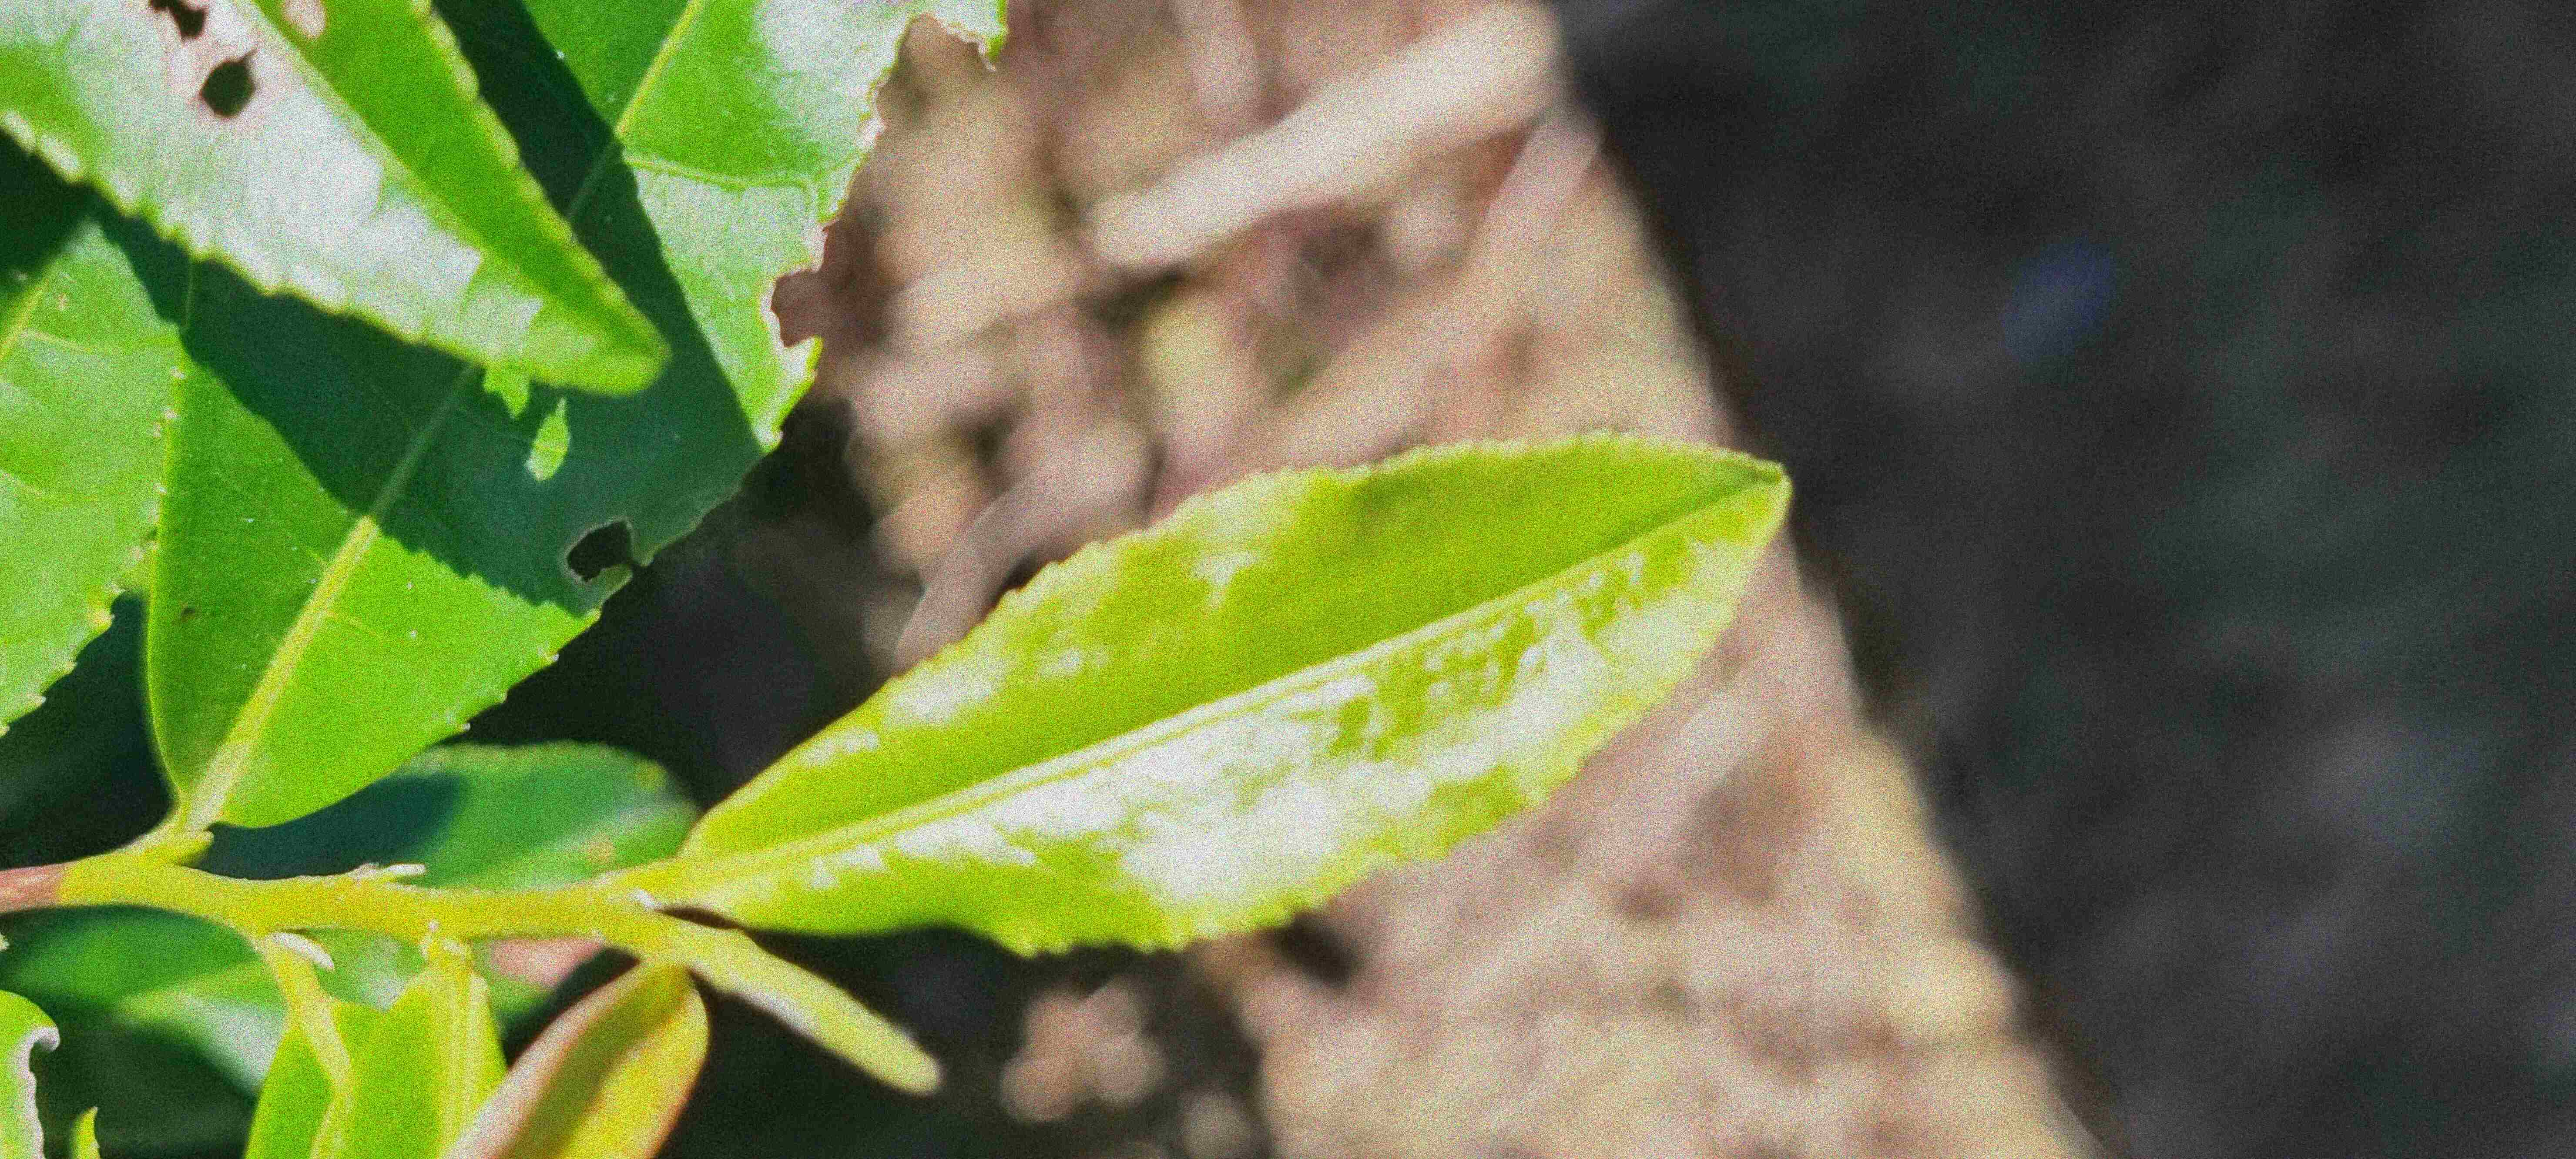chihuo_high: (143, 0, 1015, 832), (0, 5, 677, 404)
healthy: (685, 428, 1796, 960)
tanju_low: (458, 962, 713, 1156)
